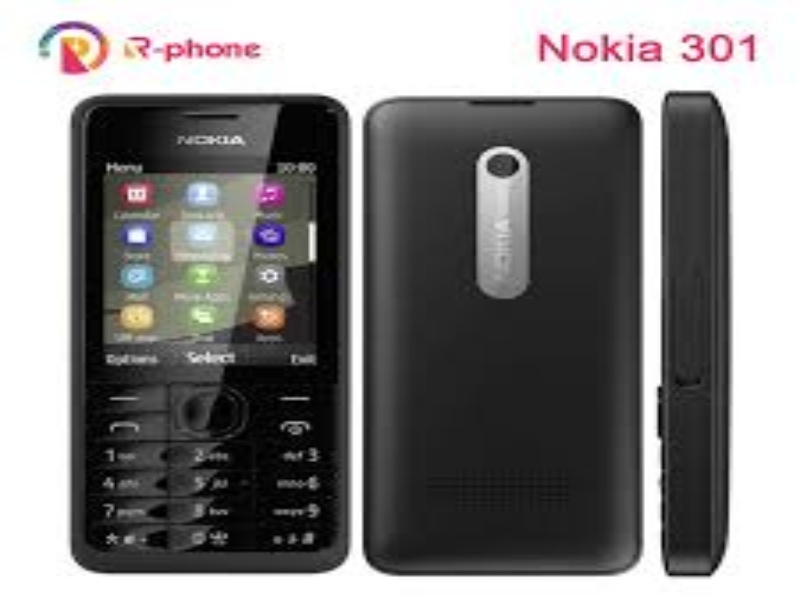mobile: (361, 93, 653, 582), (76, 87, 355, 575)
